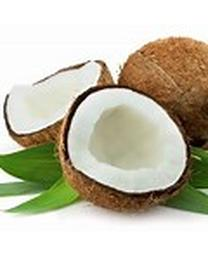coconut: (56, 82, 193, 212), (2, 59, 117, 151), (117, 36, 207, 152)
